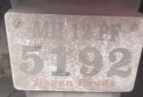character: (76, 45, 103, 77), (18, 43, 43, 77), (106, 46, 133, 77), (48, 44, 71, 76)
